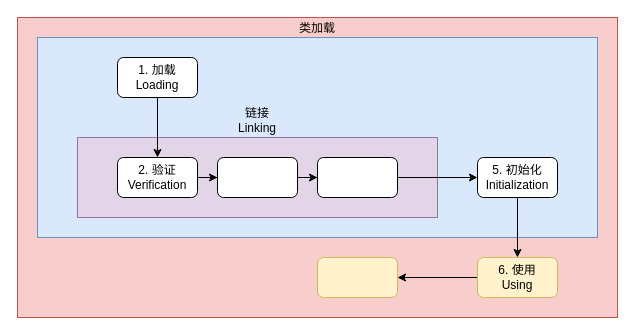
This 635x335 diagram has some shape labels left out. The centre of each missing label's shape, as x and y in pixels:
"3. 准备 Preparation" belongs at pixel 257 177.
"4. 解析 Resolution" belongs at pixel 357 177.
"7. 卸载 Unloading" belongs at pixel 357 277.
